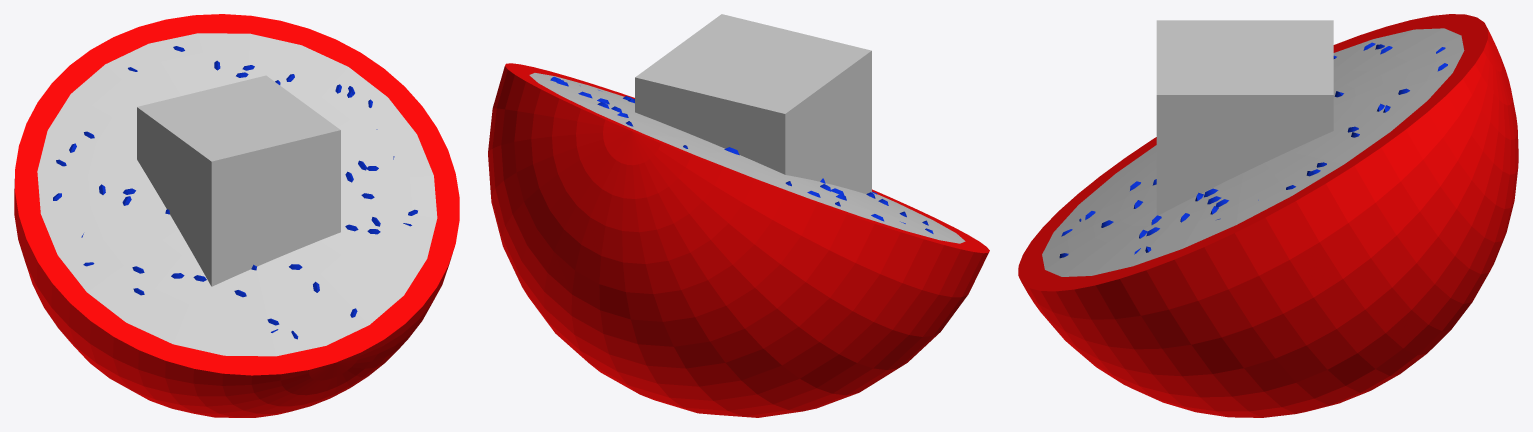
The model's file is DRAGON_FROOT.dae.
3 renders of one model, left to right at view 1: azimuth 30°, elevation 25°; view 2: azimuth 150°, elevation 25°; view 3: azimuth 270°, elevation 25°, orthographic. The views are drawn at different scales.
Visible parts, largest first — view 1: Oil_Tank.1, Capsule, Cube, Capsule_0.1; view 2: Capsule, Cube, Oil_Tank.1, Capsule_0.1; view 3: Capsule, Oil_Tank.1, Cube, Capsule_0.1.
Part boxes in pixels (bbox=[...]): Oil_Tank.1: bbox=[37, 33, 437, 356]; Capsule: bbox=[14, 14, 459, 417]; Cube: bbox=[137, 75, 340, 286]; Capsule_0.1: bbox=[53, 46, 417, 339]; Capsule: bbox=[488, 63, 989, 417]; Cube: bbox=[635, 14, 871, 193]; Oil_Tank.1: bbox=[529, 73, 965, 243]; Capsule_0.1: bbox=[550, 76, 933, 233]; Capsule: bbox=[1018, 14, 1518, 417]; Oil_Tank.1: bbox=[1042, 28, 1464, 276]; Cube: bbox=[1156, 20, 1333, 215]; Capsule_0.1: bbox=[1059, 42, 1447, 258].
Size of the model in its own units: 59.64 by 44.58 by 56.49.
